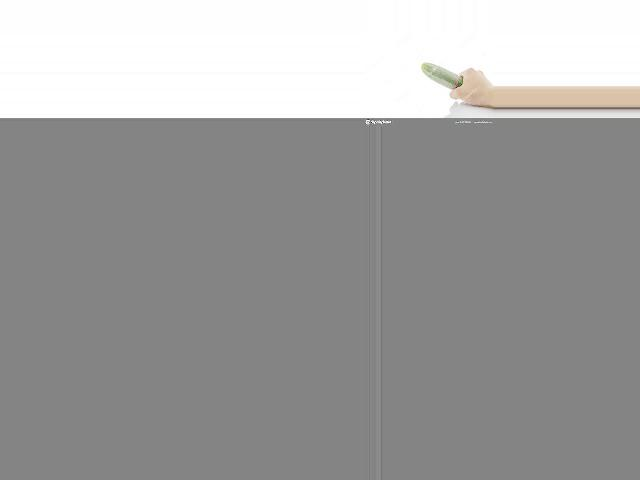cucumber: (421, 62, 463, 89)
